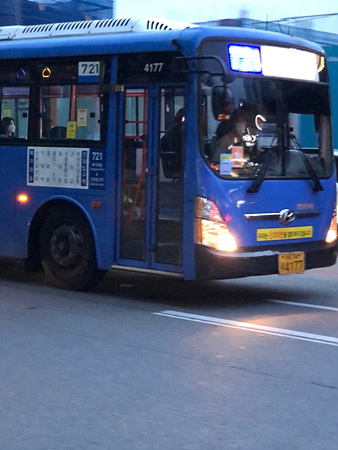entrance: (114, 79, 190, 271)
